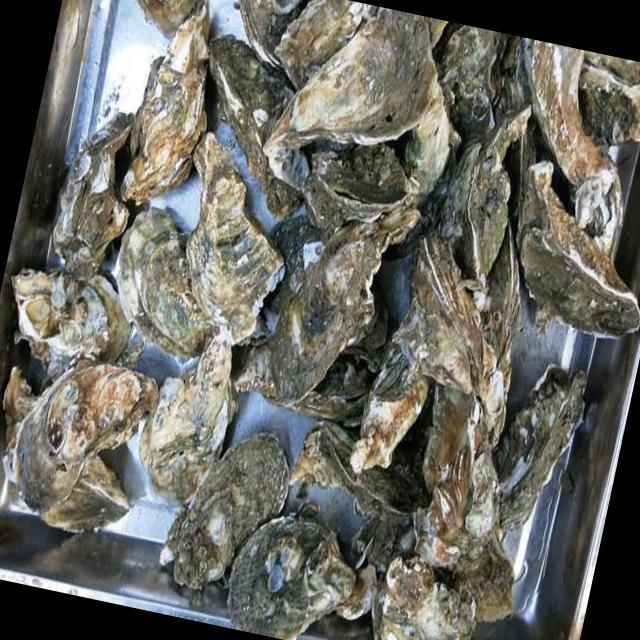Oyster- Indeterminate: (515, 161, 640, 339), (256, 229, 369, 411), (147, 435, 293, 572), (214, 514, 366, 640), (0, 367, 152, 492), (182, 145, 275, 347), (291, 13, 430, 140), (496, 365, 594, 537), (129, 339, 250, 477), (211, 35, 308, 199), (0, 265, 161, 362), (337, 321, 439, 470), (128, 15, 208, 199), (112, 210, 212, 347), (425, 365, 503, 540), (523, 40, 614, 189), (47, 123, 137, 268), (403, 238, 501, 366), (242, 205, 332, 326), (324, 430, 427, 527), (274, 2, 382, 90), (380, 557, 484, 640), (434, 23, 508, 135), (237, 0, 308, 95), (557, 158, 624, 256), (414, 60, 460, 201), (466, 532, 530, 625), (578, 64, 640, 149), (494, 118, 555, 173)
Oyster-Closed: (454, 149, 512, 279), (131, 0, 214, 36)
Oyster-Open: (317, 143, 407, 223), (263, 365, 384, 413)
